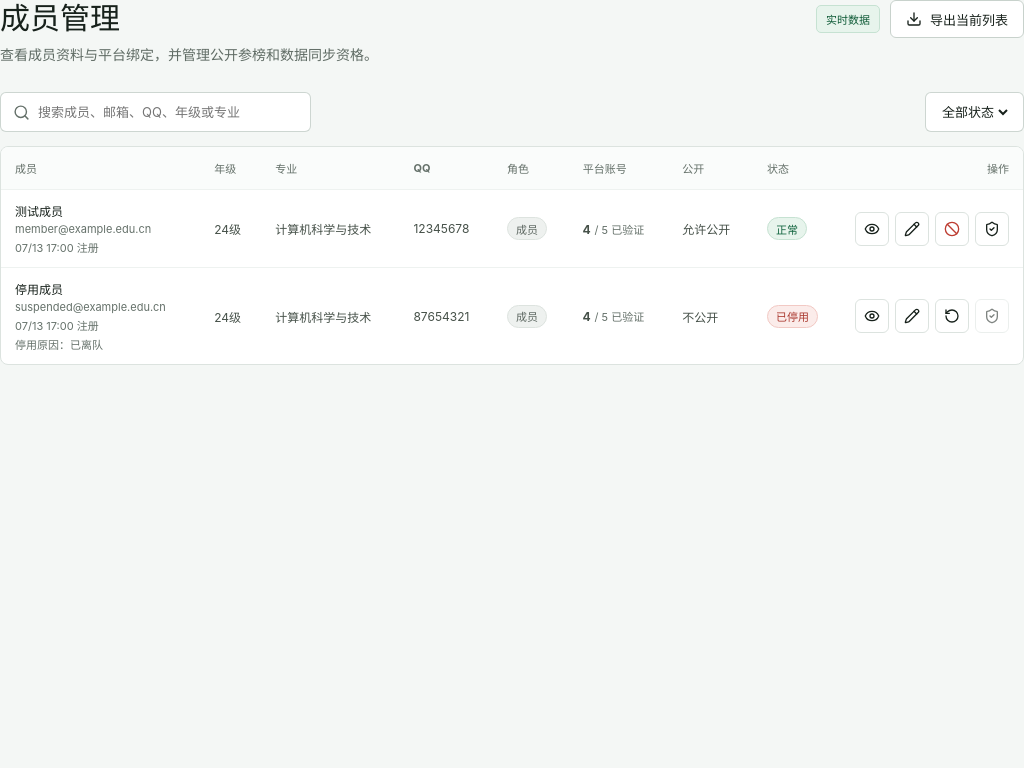
it: AdminMembersPage with Supabase configured › requires a reason and explicit confirmation before promoting an administrator
Expected: the row "测试成员" is shown, [1,189,1023,268]
Click the button named "提升 测试成员".
click(992, 229)  # box [975,212,1009,246]
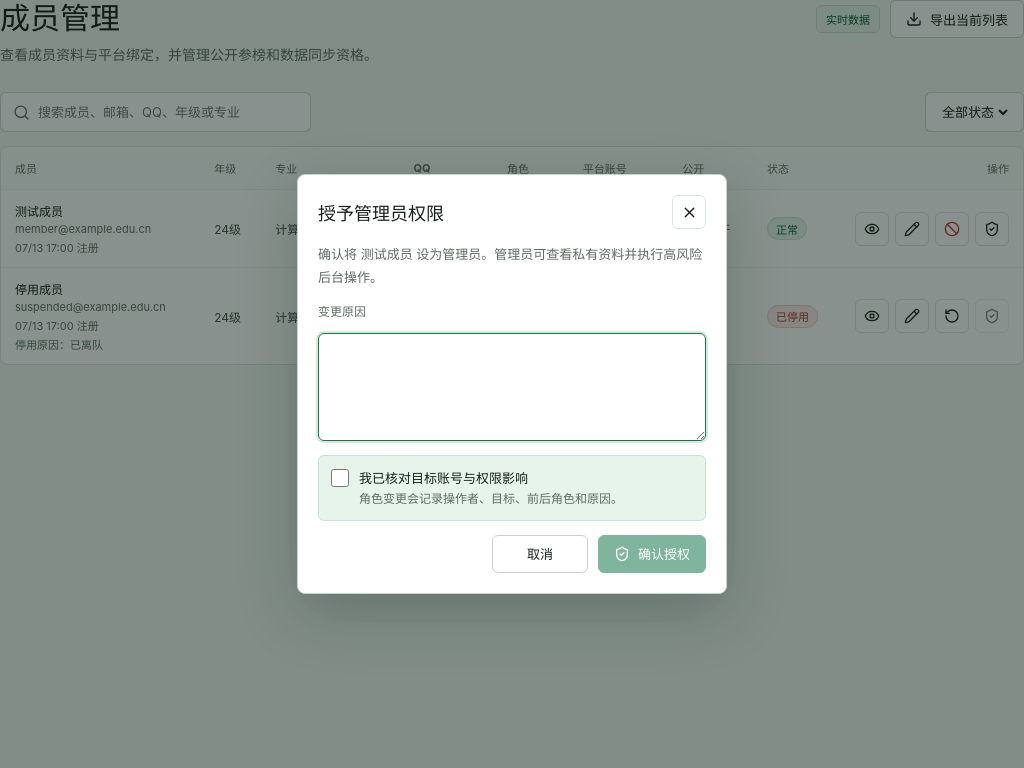
Now the button "确认授权" is disabled, box [598,535,706,573]
Type "接任集训队管理员" into the text box labelled "变更原因".
click(512, 387); type("接任集训队管理员")  # box [318,333,706,441]
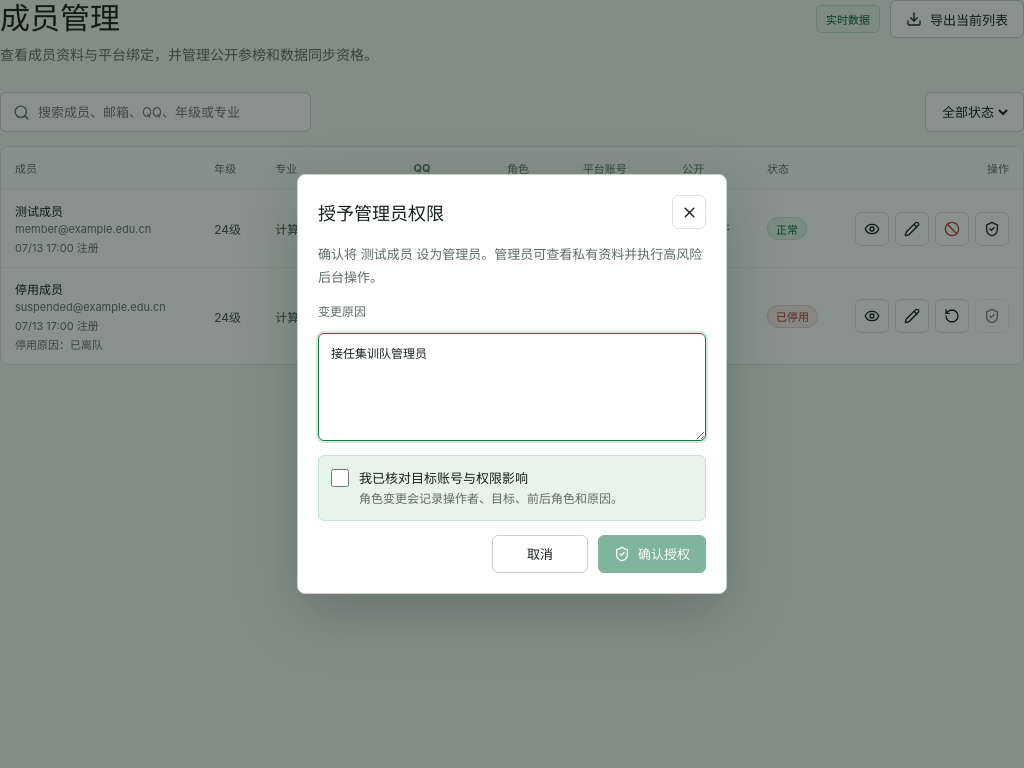
Click the checkbox labelled "我已核对目标账号与权限影响 角色变更会记录操作者、目标、前后角色和原因。".
click(340, 478)  # box [331,469,349,487]
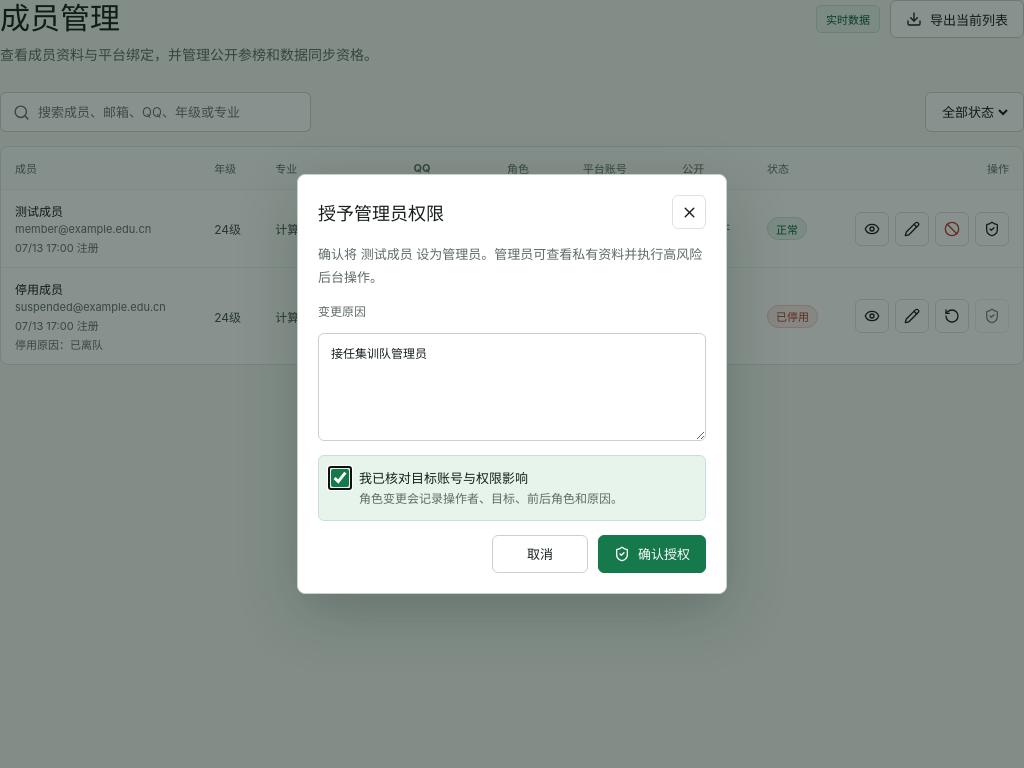
Now the button "确认授权" is enabled
Click the button "确认授权".
click(652, 554)  # box [598,535,706,573]
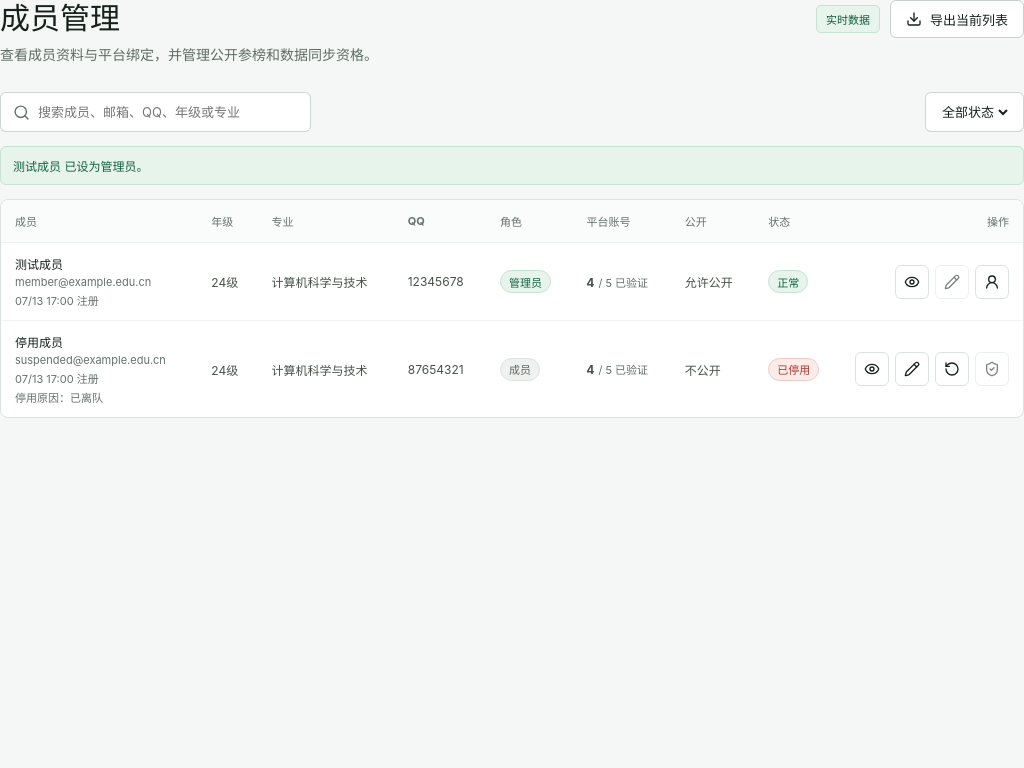
Now the message reads "测试成员 已设为管理员。", box [13,159,148,174]
